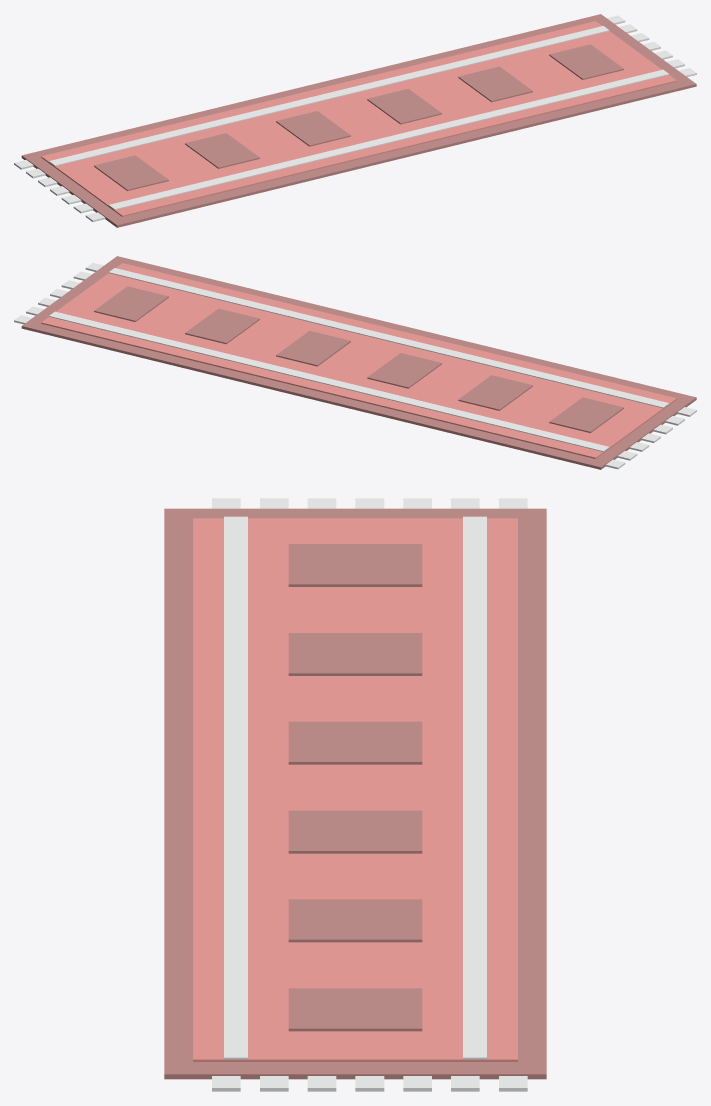
The model's file is rugRunner.glb.
3 renders of one model, top to bottom at view 1: azimuth 30°, elevation 25°; view 2: azimuth 150°, elevation 25°; view 3: azimuth 270°, elevation 25°, orthographic. The views are drawn at different scales.
Visible parts, largest first — view 1: rugRunner; view 2: rugRunner; view 3: rugRunner.
Part boxes in pixels (<box>): rugRunner: <box>14,14,696,227</box>; rugRunner: <box>14,256,696,469</box>; rugRunner: <box>164,498,546,1091</box>.
Bounding box in the file's own units: 1.46 × 0.012 × 0.4.
